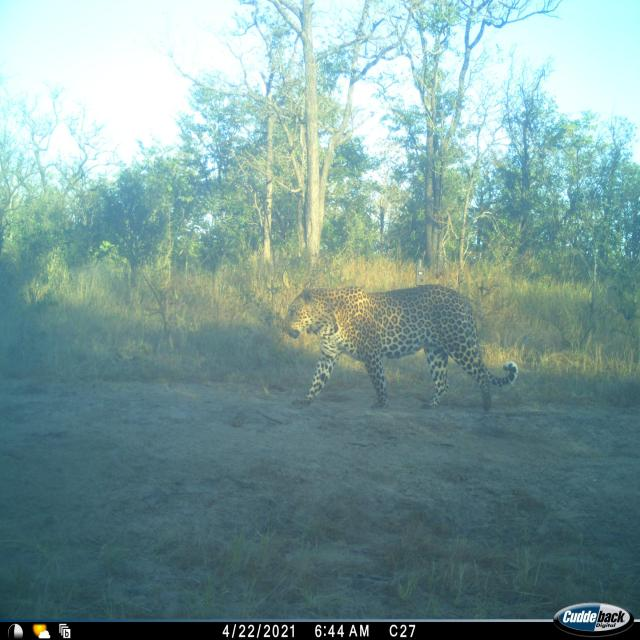Leopard: (280, 270, 529, 426)
